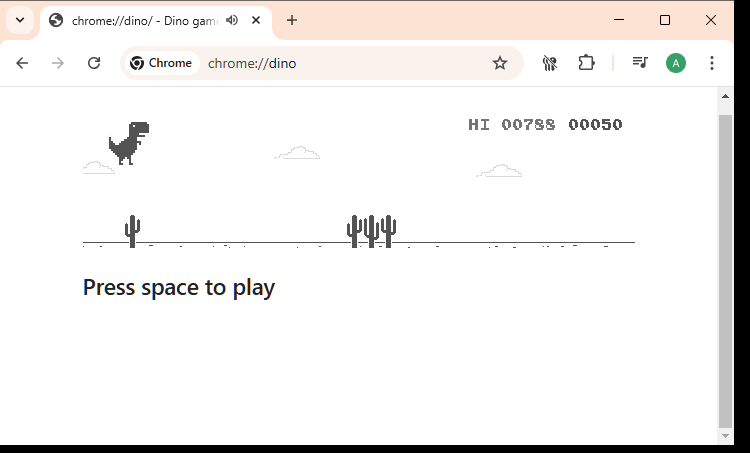cactus: (380, 213, 397, 250), (124, 213, 141, 249), (363, 214, 380, 250), (346, 214, 363, 249)
dino: (107, 120, 150, 167)
